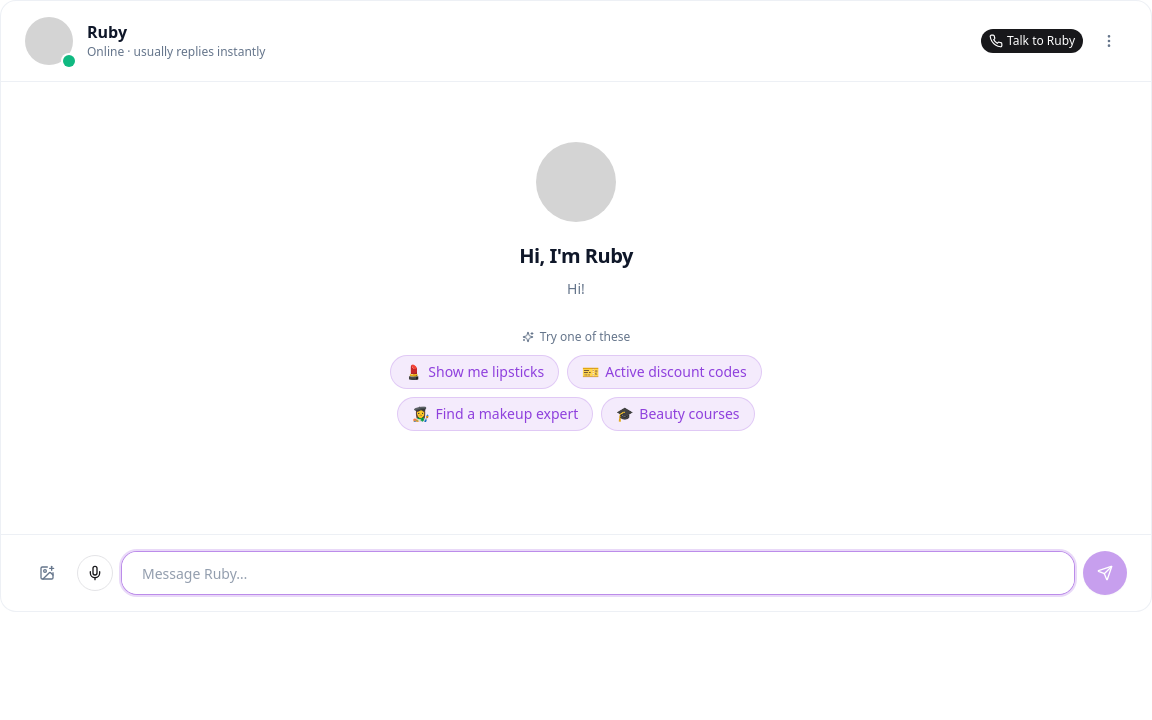
Scenario: AgentChat voice wiring › mic button records, posts to /transcribe, and fills the chat input with the transcript
Click the button named "record voice": [95, 573] box top-left (77, 555), bottom-right (113, 591)
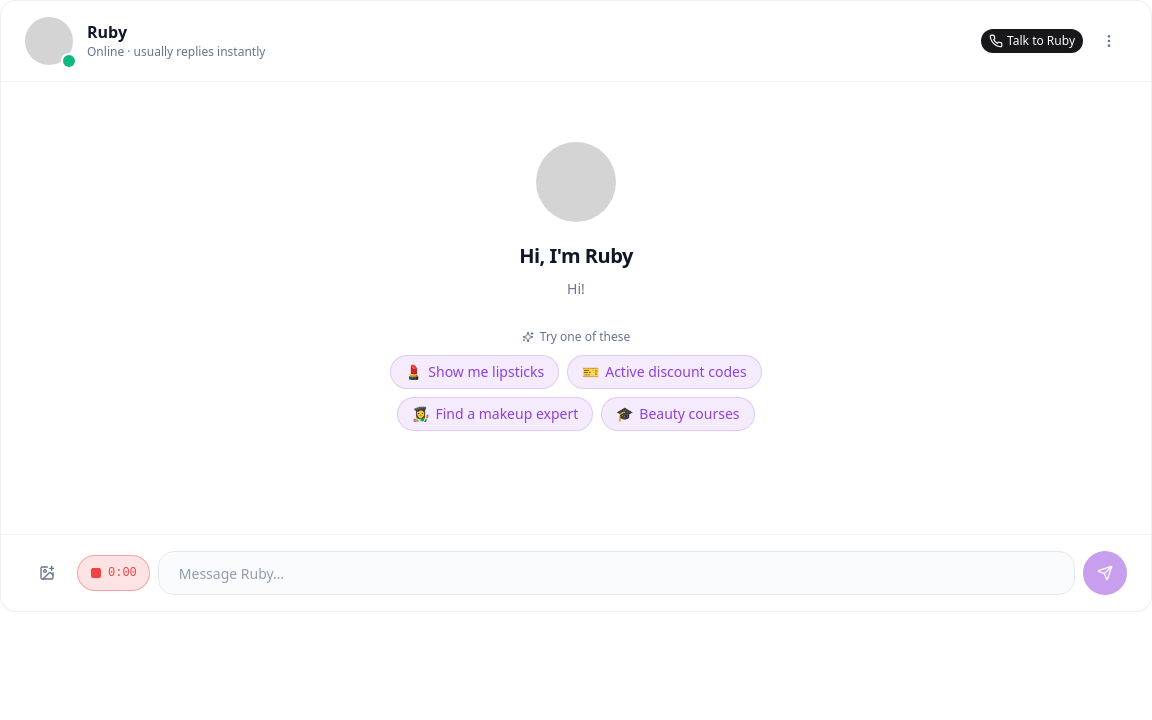
Click the button named "stop": [113, 573] box top-left (77, 555), bottom-right (150, 591)
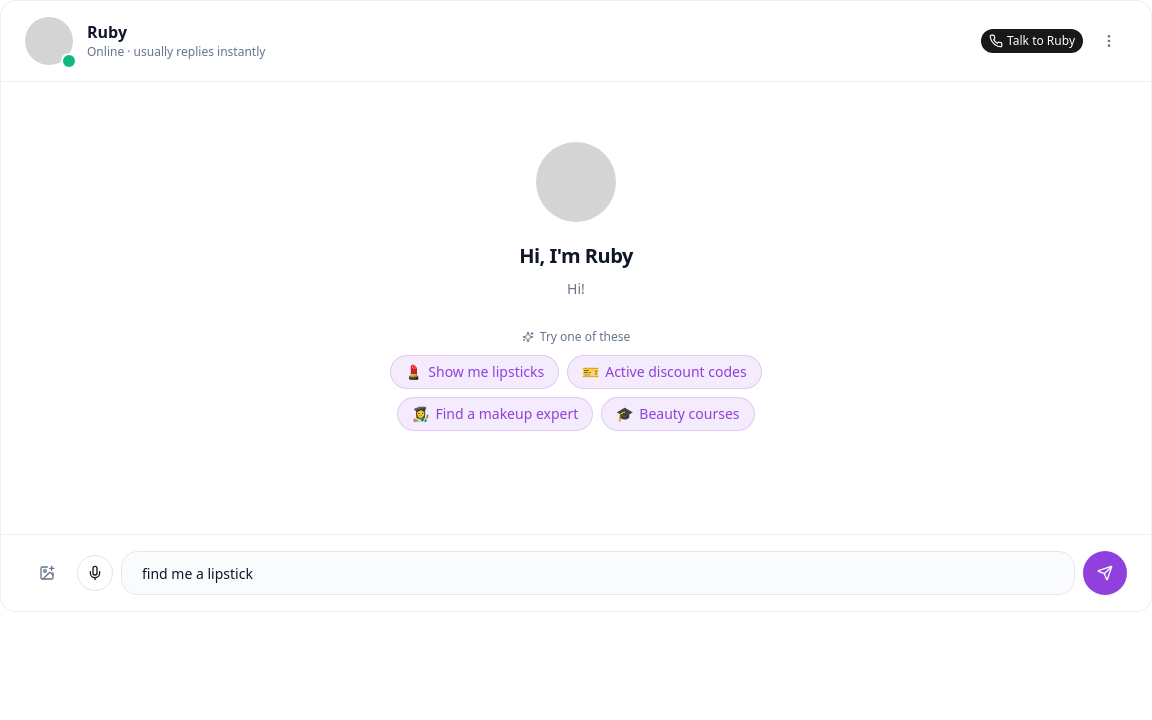
expect the text box with placeholder "Message Ruby…" holds "find me a lipstick": met, box top-left (121, 551), bottom-right (1075, 595)
